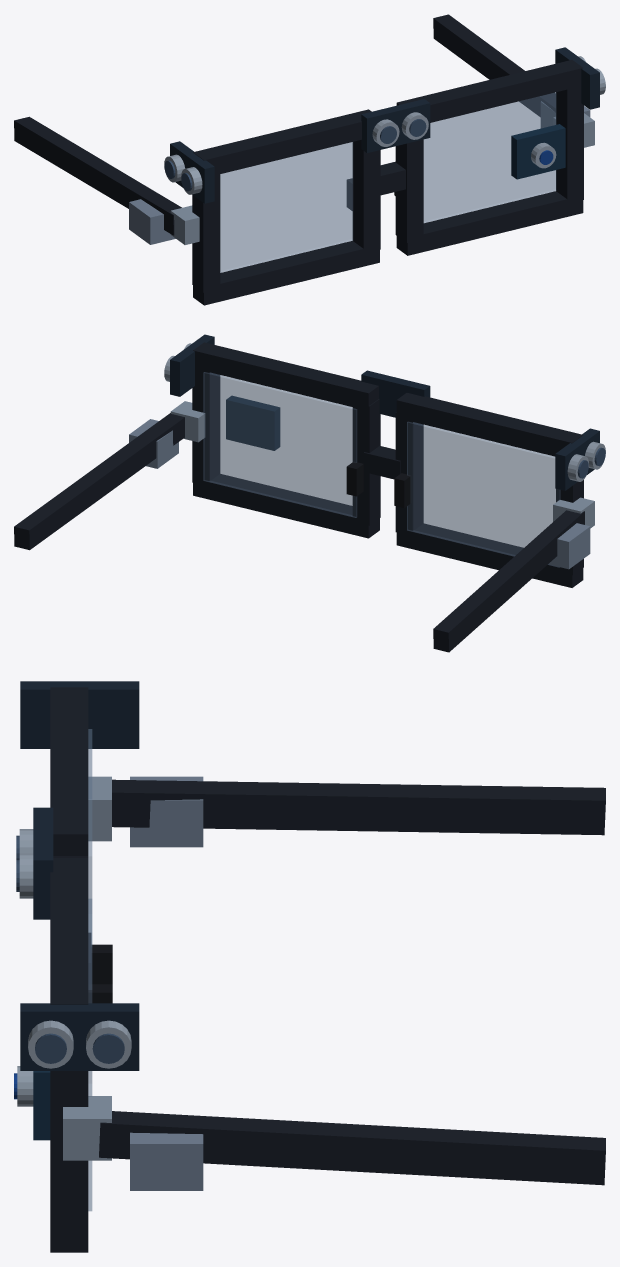
Rendered from JARVIS_Glasses.obj.
The picture shows the model from 3 angles, top to bottom: view 1: azimuth 30°, elevation 25°; view 2: azimuth 150°, elevation 25°; view 3: azimuth 270°, elevation 25°; orthographic projection. The views are drawn at different scales.
Parts seen in each view (by area): view 1: left_lens, right_lens, left_frame_side, right_frame_side, left_frame_bottom, left_temple, right_frame_bottom, left_frame_top, right_frame_top, right_temple, esp32_cam_board, ultrasonic_sensor_02_forward_board (+5 smaller); view 2: right_lens, left_lens, right_temple, right_frame_side, right_frame_top, left_temple, left_frame_top, right_frame_bottom, left_frame_bottom, left_frame_side, esp32_cam_board, ultrasonic_sensor_02_forward_board (+9 smaller); view 3: left_temple, right_temple, left_frame_top, ultrasonic_sensor_01_left_side_board, right_frame_top, right_frame_side, ultrasonic_sensor_03_right_side_board, right_vibration_motor, left_vibration_motor, right_hinge, ultrasonic_sensor_02_forward_board, left_hinge (+9 smaller).
Boxes of the visible parts, x1,y1,x2,y2 form: left_lens: [220, 142, 352, 272]; right_lens: [423, 92, 556, 222]; left_frame_side: [192, 140, 380, 292]; right_frame_side: [395, 81, 583, 242]; left_frame_bottom: [193, 241, 379, 305]; left_temple: [14, 116, 181, 235]; right_frame_bottom: [396, 191, 583, 255]; left_frame_top: [193, 109, 371, 175]; right_frame_top: [396, 60, 582, 122]; right_temple: [433, 14, 555, 116]; esp32_cam_board: [511, 124, 565, 179]; ultrasonic_sensor_02_forward_board: [361, 99, 430, 152]; right_lens: [203, 372, 356, 517]; left_lens: [407, 422, 560, 567]; right_temple: [14, 413, 184, 550]; right_frame_side: [192, 364, 380, 525]; right_frame_top: [193, 342, 378, 410]; left_temple: [433, 510, 584, 652]; left_frame_top: [396, 393, 582, 456]; right_frame_bottom: [193, 474, 379, 538]; left_frame_bottom: [396, 523, 583, 587]; left_frame_side: [395, 412, 583, 575]; esp32_cam_board: [226, 395, 280, 450]; ultrasonic_sensor_02_forward_board: [361, 370, 430, 417]; left_temple: [112, 779, 605, 835]; right_temple: [99, 1111, 605, 1185]; left_frame_top: [50, 687, 88, 856]; ultrasonic_sensor_01_left_side_board: [20, 681, 139, 748]; right_frame_top: [50, 857, 88, 1004]; right_frame_side: [50, 1071, 88, 1230]; ultrasonic_sensor_03_right_side_board: [20, 1003, 139, 1070]; right_vibration_motor: [130, 1132, 203, 1190]; left_vibration_motor: [130, 776, 203, 847]; right_hinge: [63, 1096, 111, 1160]; ultrasonic_sensor_02_forward_board: [33, 807, 53, 919]; left_hinge: [88, 776, 111, 841].
Size of the model in its own units: 5.71 by 1.88 by 3.89.
